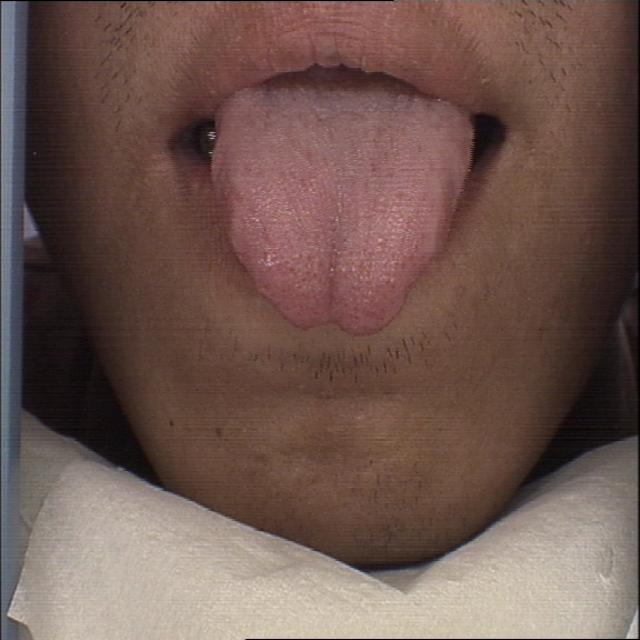tongue: (202, 79, 480, 337)
